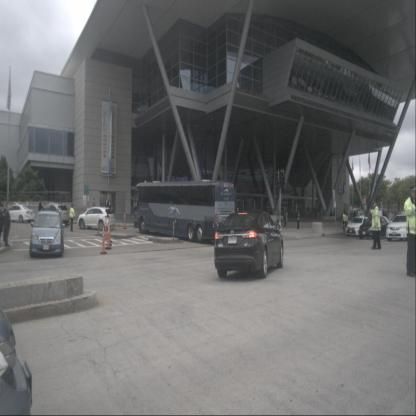cone: (105, 222, 112, 249), (100, 223, 106, 254), (106, 222, 112, 246), (107, 221, 113, 243), (104, 217, 108, 240), (123, 211, 127, 229)
